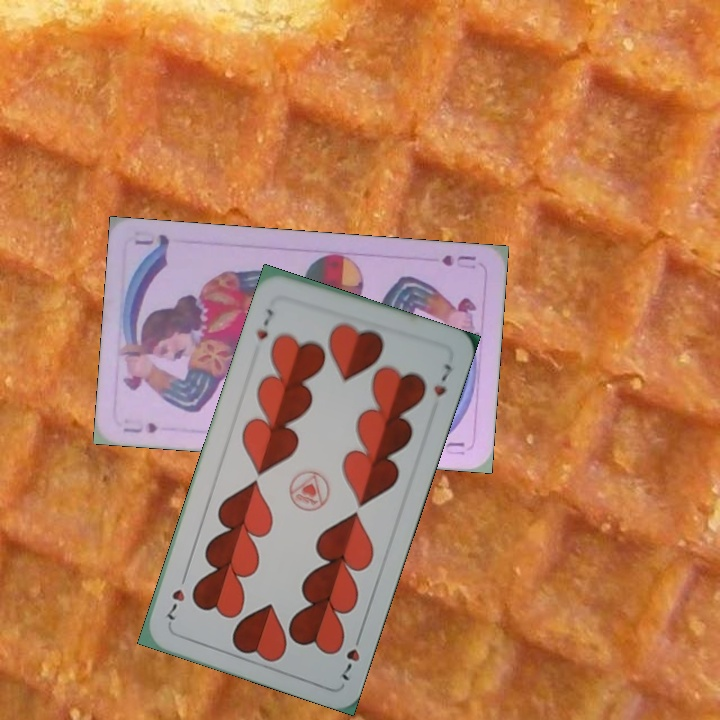H7: (337, 628, 365, 684), (252, 304, 277, 342)
SU: (120, 416, 161, 436), (438, 251, 479, 269)
